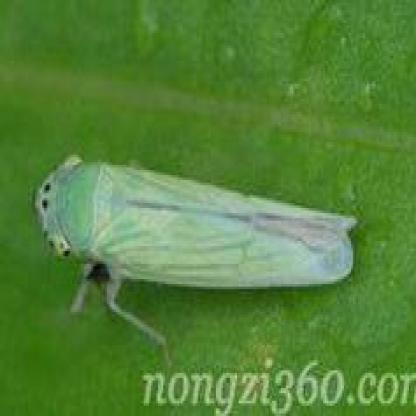Green-Leafhopper: (36, 146, 357, 358)
